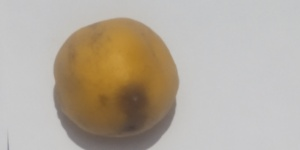BAD: (54, 19, 180, 140)
